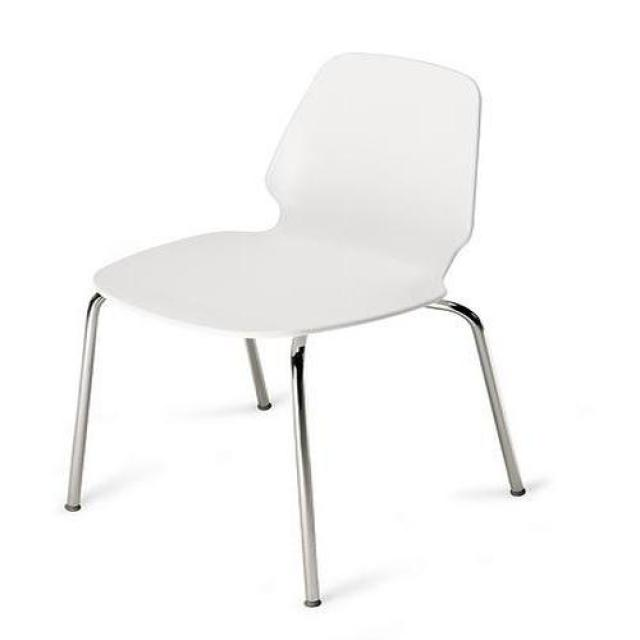chair: (68, 52, 525, 609)
